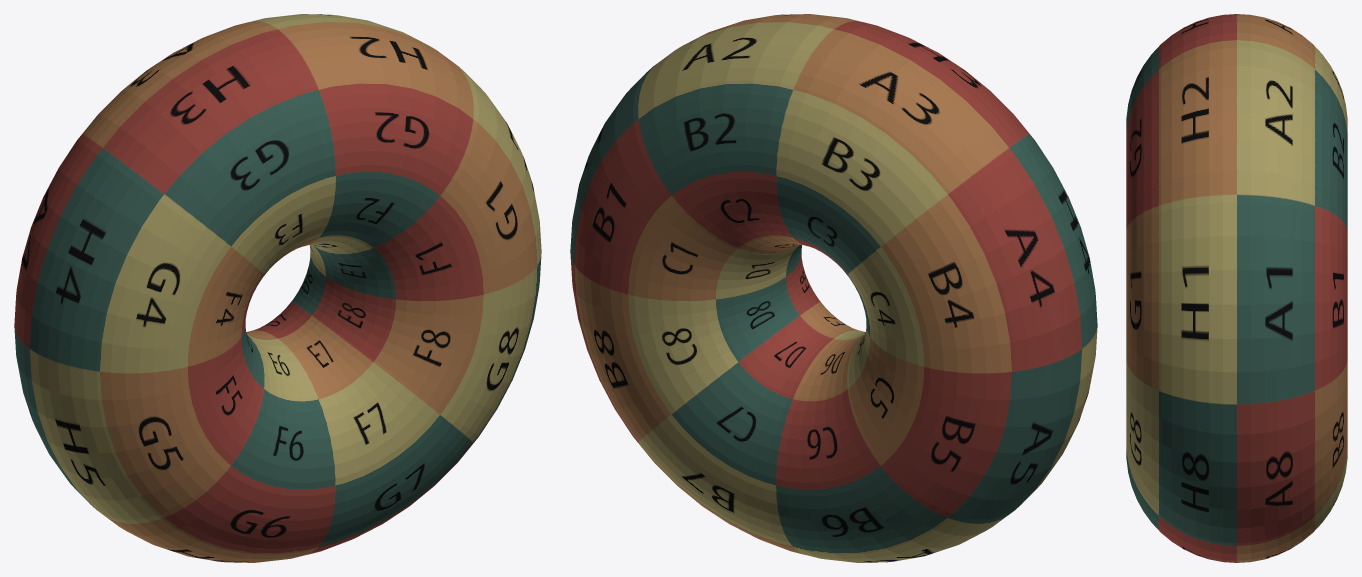
Rendered from texture_torus_R6_r28.glb.
3 renders of one model, left to right at view 1: azimuth 30°, elevation 25°; view 2: azimuth 150°, elevation 25°; view 3: azimuth 270°, elevation 25°, orthographic. The views are drawn at different scales.
Parts seen in each view (by area): view 1: world; view 2: world; view 3: world.
Boxes of the visible parts, x1=… form: world: x1=14, y1=14, x2=541, y2=562; world: x1=570, y1=14, x2=1097, y2=562; world: x1=1126, y1=14, x2=1347, y2=562.
Bounding box in the file's own units: 23.47 × 23.42 × 9.45.
Materials: 1 (1 with a texture image).
